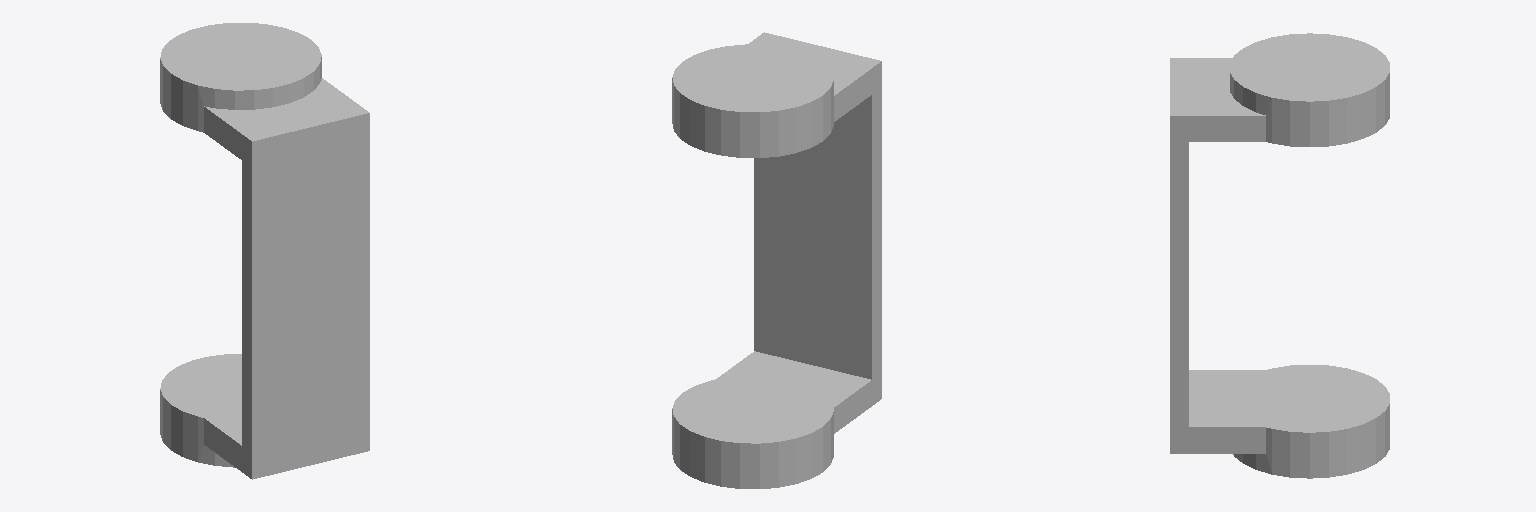
Rendered from d48_ptu_mount.obj.
The picture shows the model from 3 angles: view 1: azimuth 30°, elevation 25°; view 2: azimuth 150°, elevation 25°; view 3: azimuth 270°, elevation 25°; orthographic projection.
Parts seen in each view (by area): view 1: <STL_BINARY>_meshId0_name; view 2: <STL_BINARY>_meshId0_name; view 3: <STL_BINARY>_meshId0_name.
Part boxes in pixels (x1,y1,x2,y2): <STL_BINARY>_meshId0_name: (160, 23, 369, 479); <STL_BINARY>_meshId0_name: (672, 32, 881, 488); <STL_BINARY>_meshId0_name: (1170, 33, 1389, 478).
Size of the model in its own units: 0.0528 by 0.1359 by 0.072.